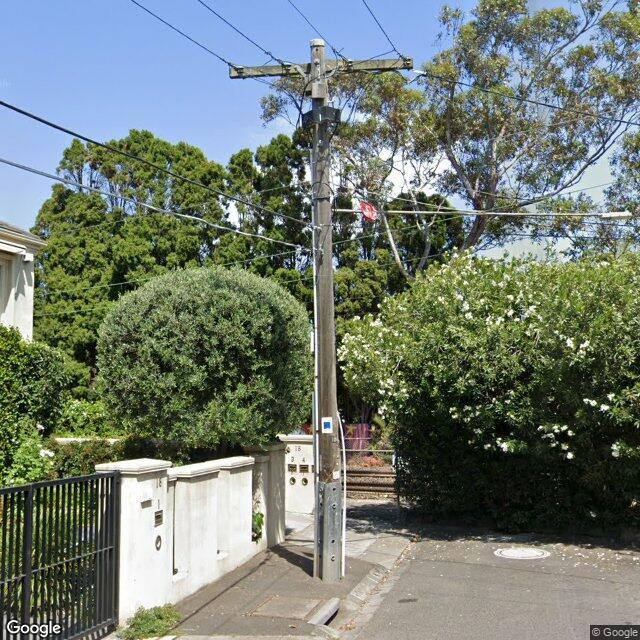crossarm: (220, 48, 414, 82)
timber-pole: (310, 38, 346, 579)
